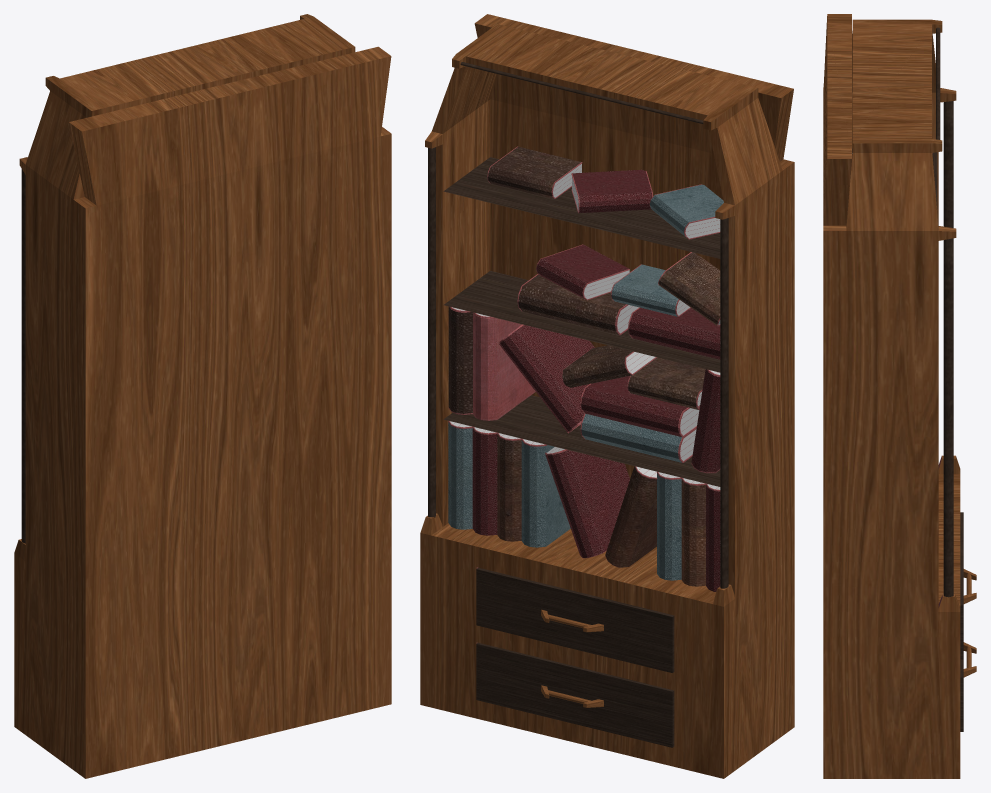
The model's file is ищщлыруда.fbx.
3 views of the same model, side by side, from view 1: azimuth 30°, elevation 25°; view 2: azimuth 150°, elevation 25°; view 3: azimuth 270°, elevation 25° (orthographic). The views are drawn at different scales.
Visible parts, largest first — view 1: Cube.021; view 2: Cube.021; view 3: Cube.021.
Part boxes in pixels (<box>): Cube.021: <box>14,14,391,778</box>; Cube.021: <box>420,14,794,778</box>; Cube.021: <box>823,14,976,778</box>.
Bounding box in the file's own units: 238 × 478 × 106.
